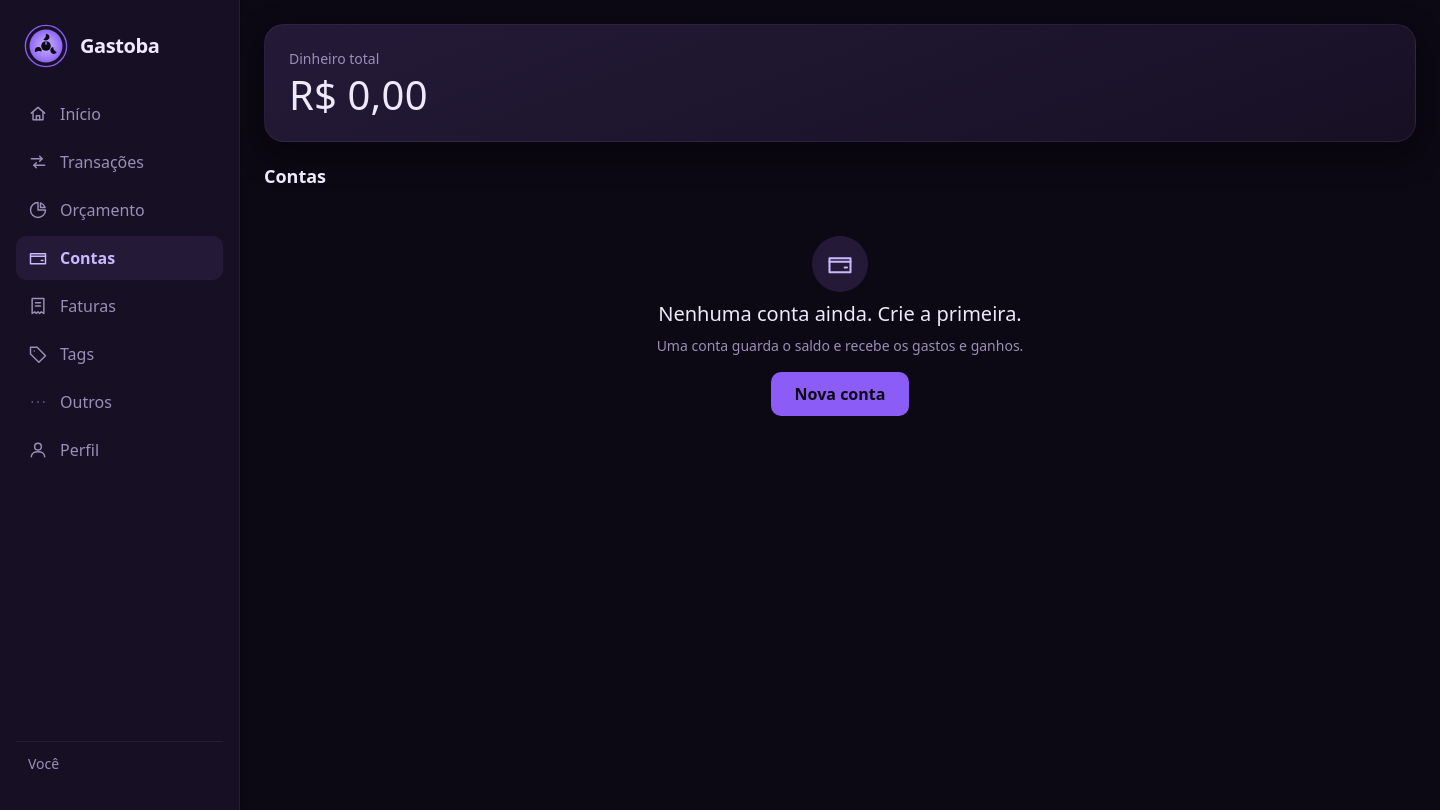
Test case: Contas › sem contas, o estado vazio tem a ação Nova conta, que abre o formulário
The image size is (1440, 810).
Expected: the text "Nenhuma conta ainda. Crie a primeira." is shown, [658, 300, 1022, 328]
Click the button "Nova conta" at (840, 394), box [771, 372, 909, 416]
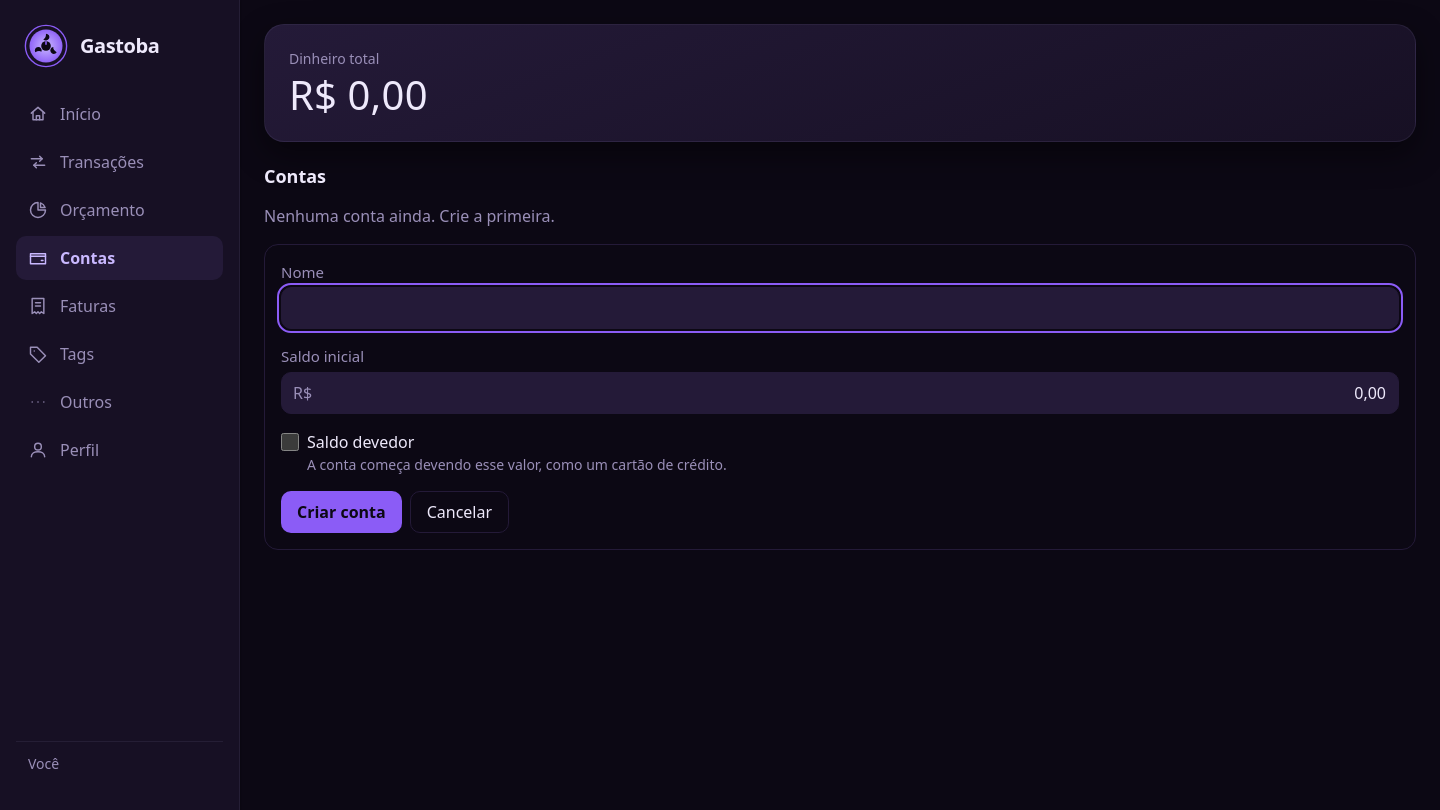
Expected: the form named "Nova conta" is shown, [264, 244, 1416, 550]
